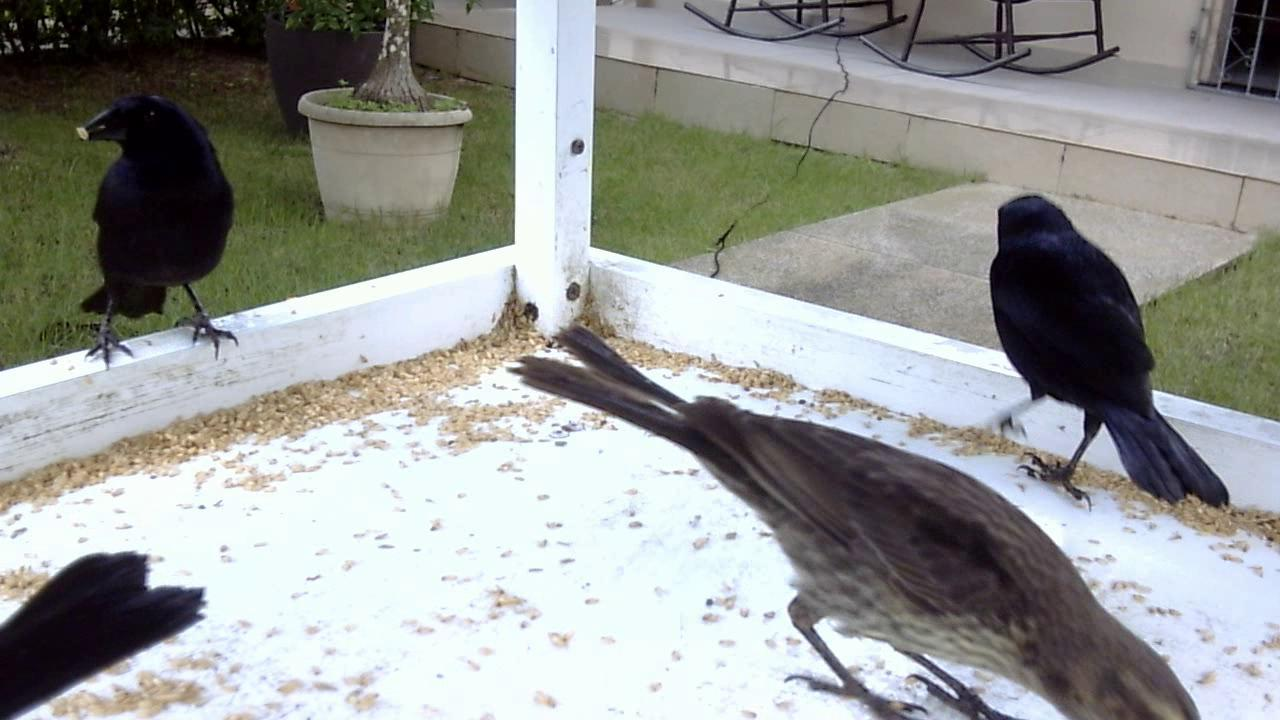chupim: (501, 330, 1215, 720), (955, 189, 1240, 524), (66, 86, 245, 384)
